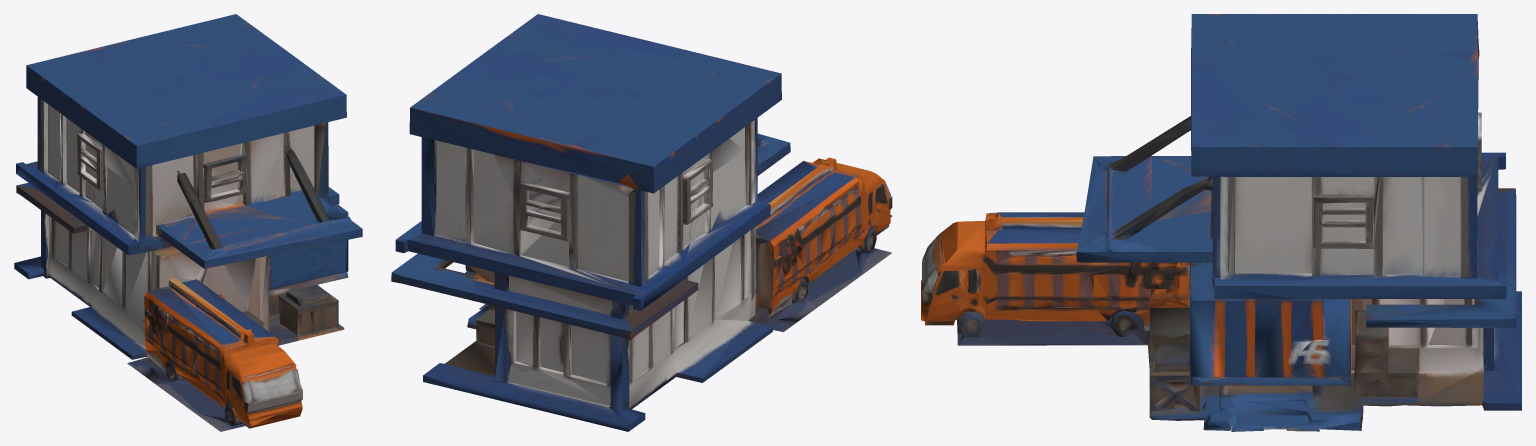
3 views of the same model, side by side, from view 1: azimuth 30°, elevation 25°; view 2: azimuth 150°, elevation 25°; view 3: azimuth 270°, elevation 25° (orthographic). The views are drawn at different scales.
Parts seen in each view (by area): view 1: tripo_node_fb7e8506.007; view 2: tripo_node_fb7e8506.007; view 3: tripo_node_fb7e8506.007.
Part boxes in pixels (x1,y1,x2,y2): tripo_node_fb7e8506.007: [14, 14, 362, 431]; tripo_node_fb7e8506.007: [391, 14, 892, 431]; tripo_node_fb7e8506.007: [921, 14, 1521, 431].
Bounding box in the file's own units: 35.45 × 34.26 × 65.06.
Materials: 1 (1 with a texture image).
